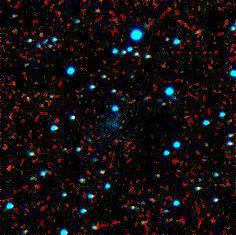star: (24, 20, 54, 50)
